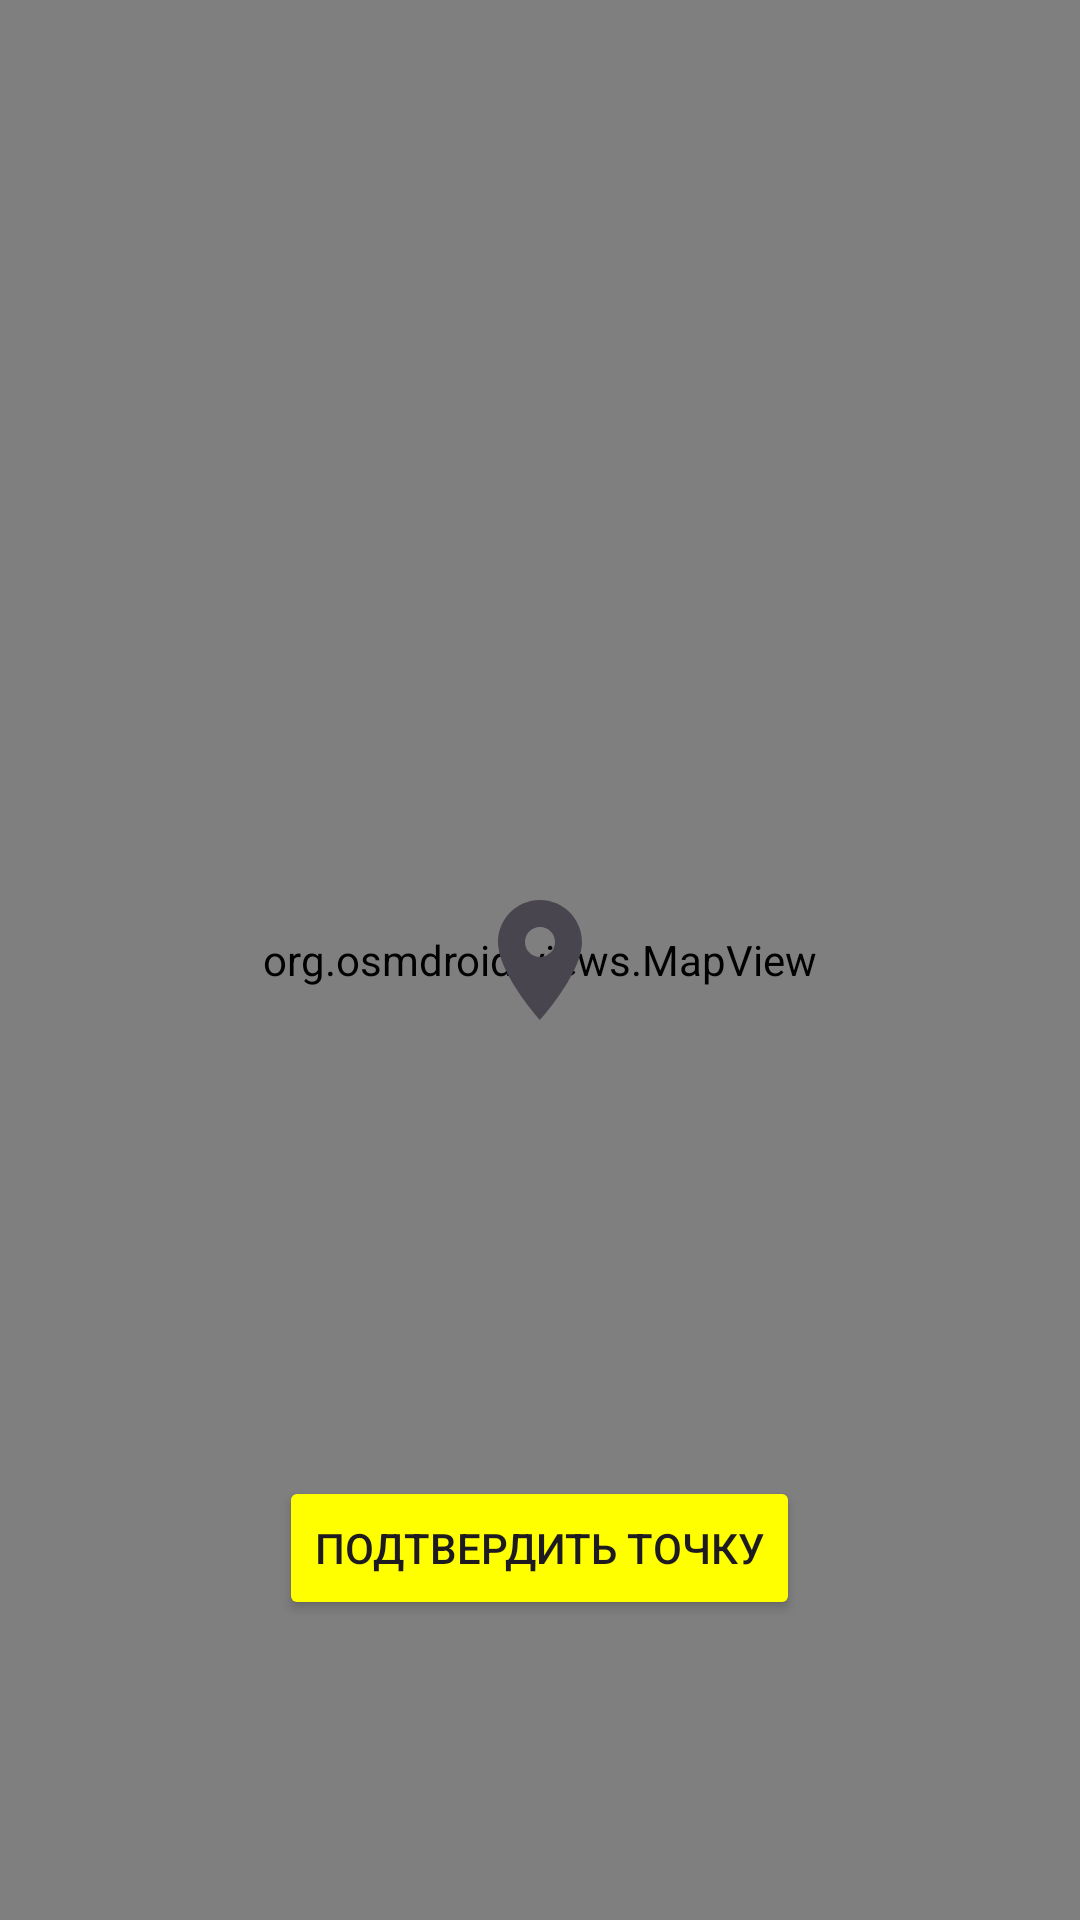

Icons on this 1080px x 1920px Android screen, each with its box as detection(x1, y1, x2, y2):
location on: detection(483, 900, 608, 1020)
